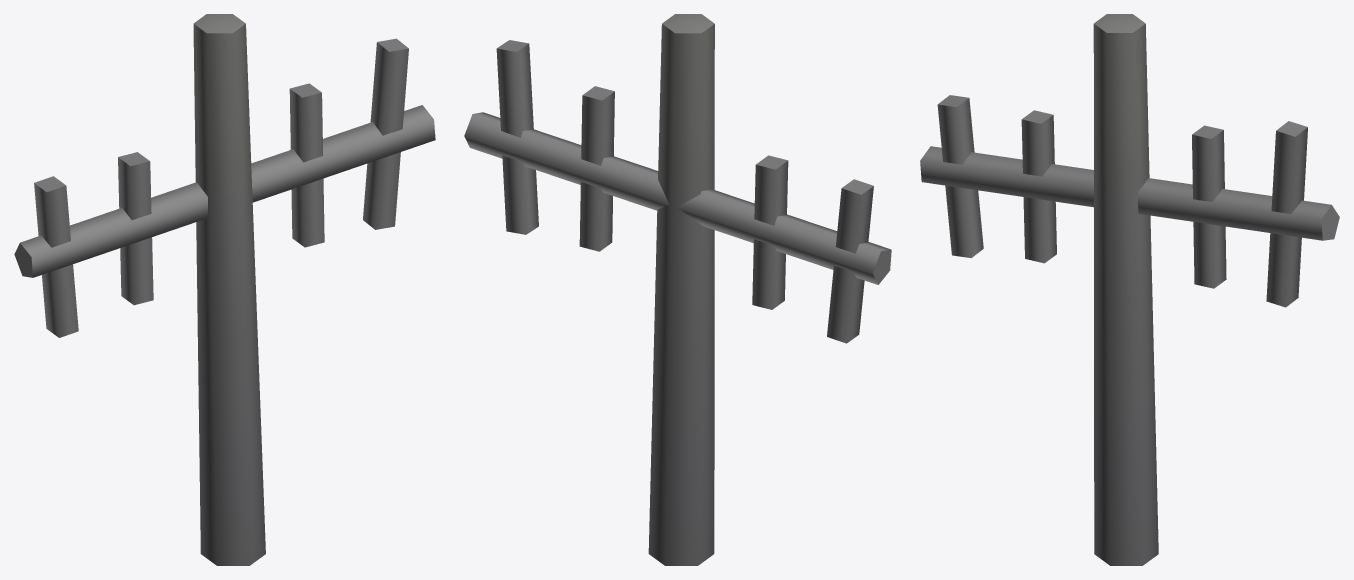
The model's file is Antene_1_D_2.fbx.
3 views of the same model, side by side, from view 1: azimuth 30°, elevation 25°; view 2: azimuth 150°, elevation 25°; view 3: azimuth 330°, elevation 25° (orthographic).
Parts seen in each view (by area): view 1: Antene_1_D_2; view 2: Antene_1_D_2; view 3: Antene_1_D_2.
Boxes of the visible parts, left/top/right/bottom form: Antene_1_D_2: left=14, top=14, right=435, bottom=565; Antene_1_D_2: left=464, top=14, right=891, bottom=565; Antene_1_D_2: left=920, top=14, right=1339, bottom=565.
Size of the model in its own units: 58.81 by 73.94 by 8.24.
